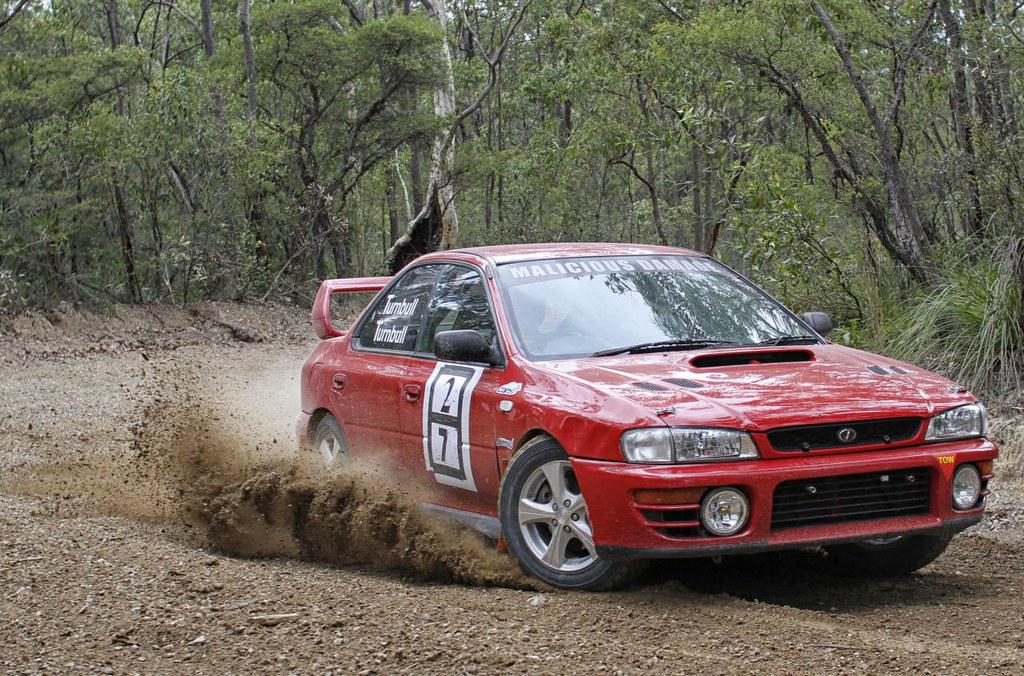bonnet-dent: (509, 362, 944, 430)
